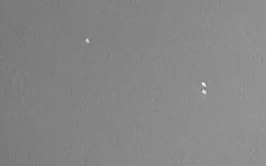Target: (86, 39, 205, 93)
